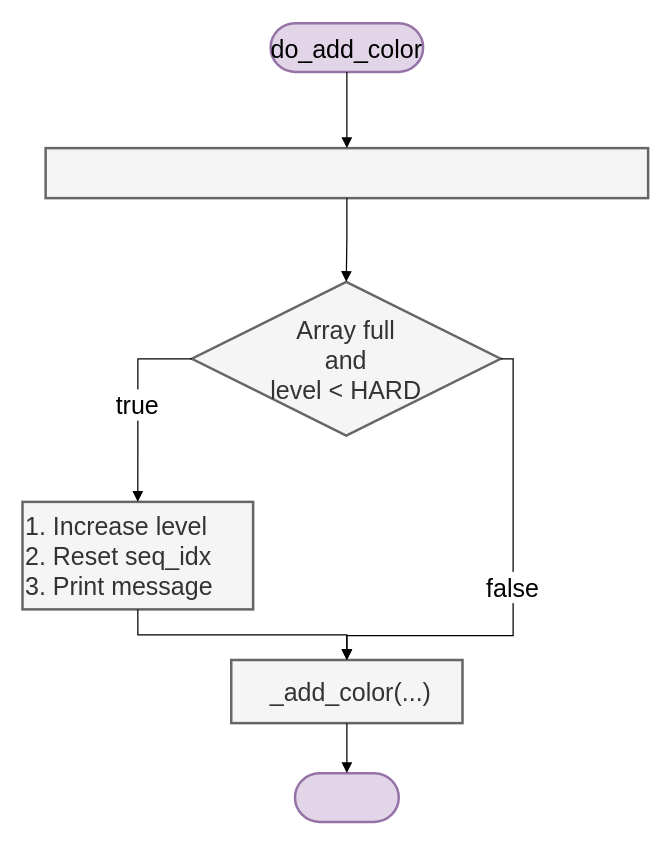
The diagram is 671 pixels wide and 844 high, and some of its shapes have lost their labels. Here are the shapes that lost their labels. From the top down, the centre of each, then its label:
At [346,172]: "Reset player_idx, playback_idx and playback_over".
At [346,796]: "return".
